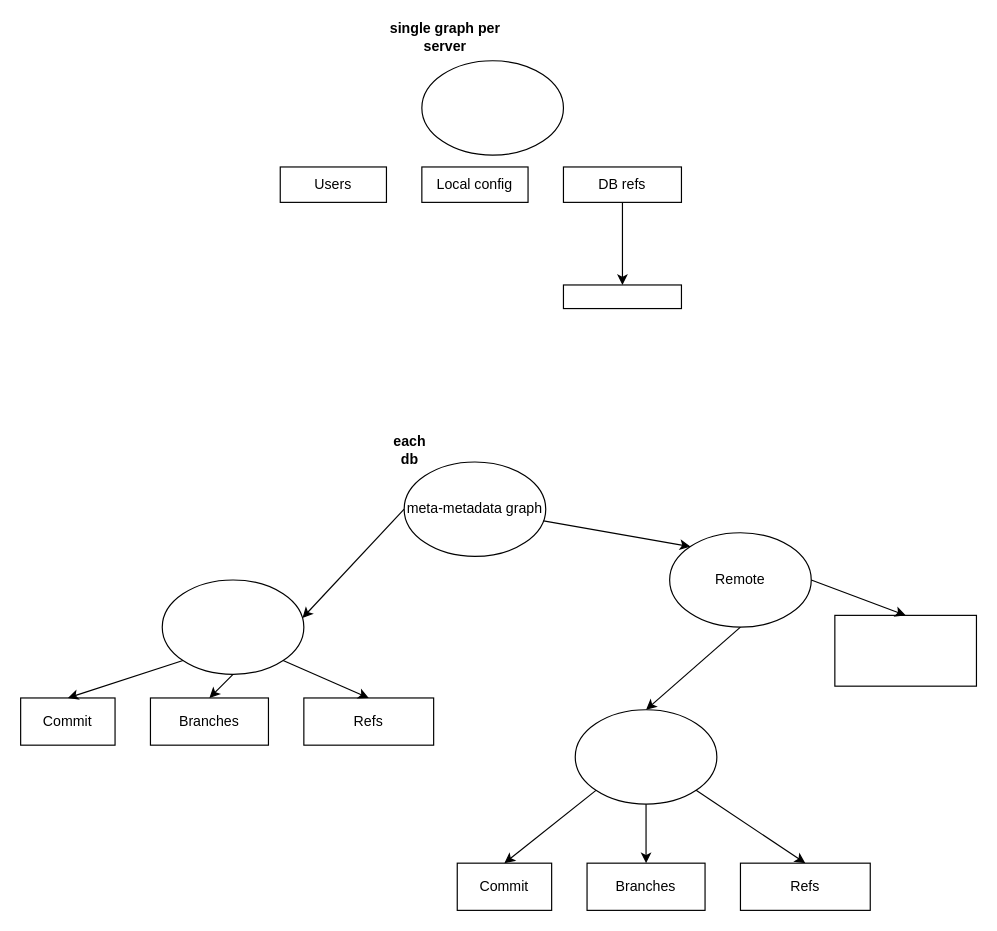
This 997x931 diagram has some shape labels left out. The centre of each missing label's shape, as x and y in pixels:
"admin graph" goes at point (492, 107).
"local metadata graph" goes at point (232, 626).
"Permissions" goes at point (621, 296).
"Remote metadata" goes at point (645, 756).
"URL" goes at point (905, 650).
